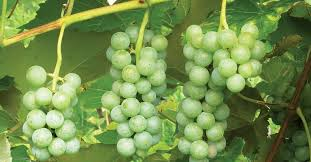grapes: (181, 25, 261, 152), (103, 22, 167, 155), (19, 61, 85, 159)
